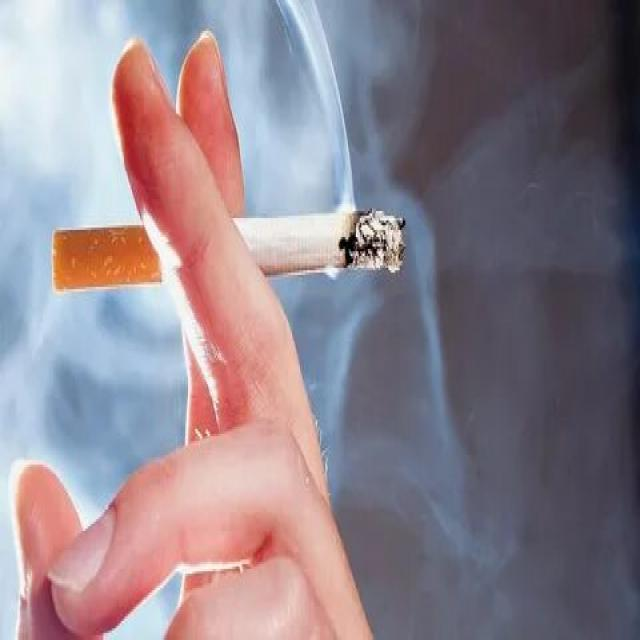cigarette: (48, 204, 409, 301)
